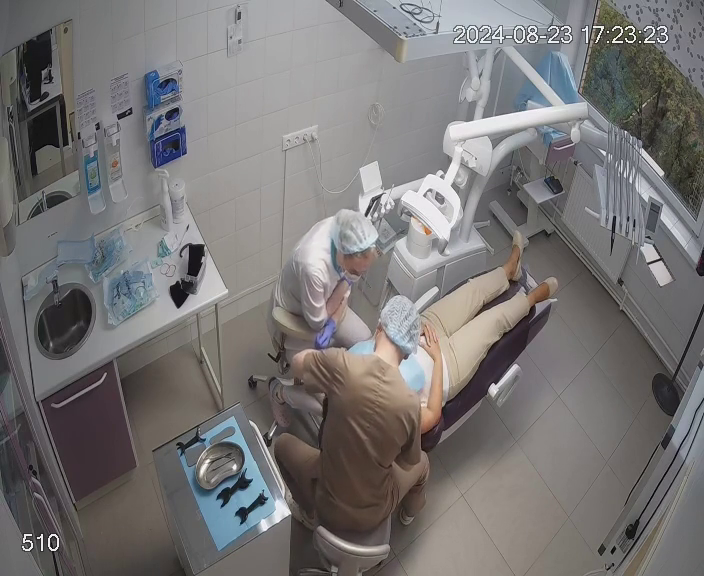Patient: (314, 229, 559, 450)
